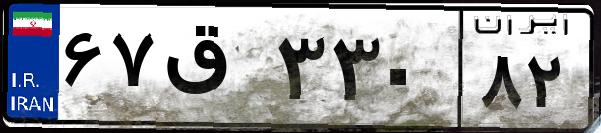0: (385, 28, 445, 110)
2: (525, 38, 570, 115)
3: (270, 28, 330, 110), (330, 28, 385, 110)
6: (57, 26, 110, 100)
7: (110, 28, 158, 98)
8: (475, 38, 525, 113)
ق: (158, 20, 270, 120)
